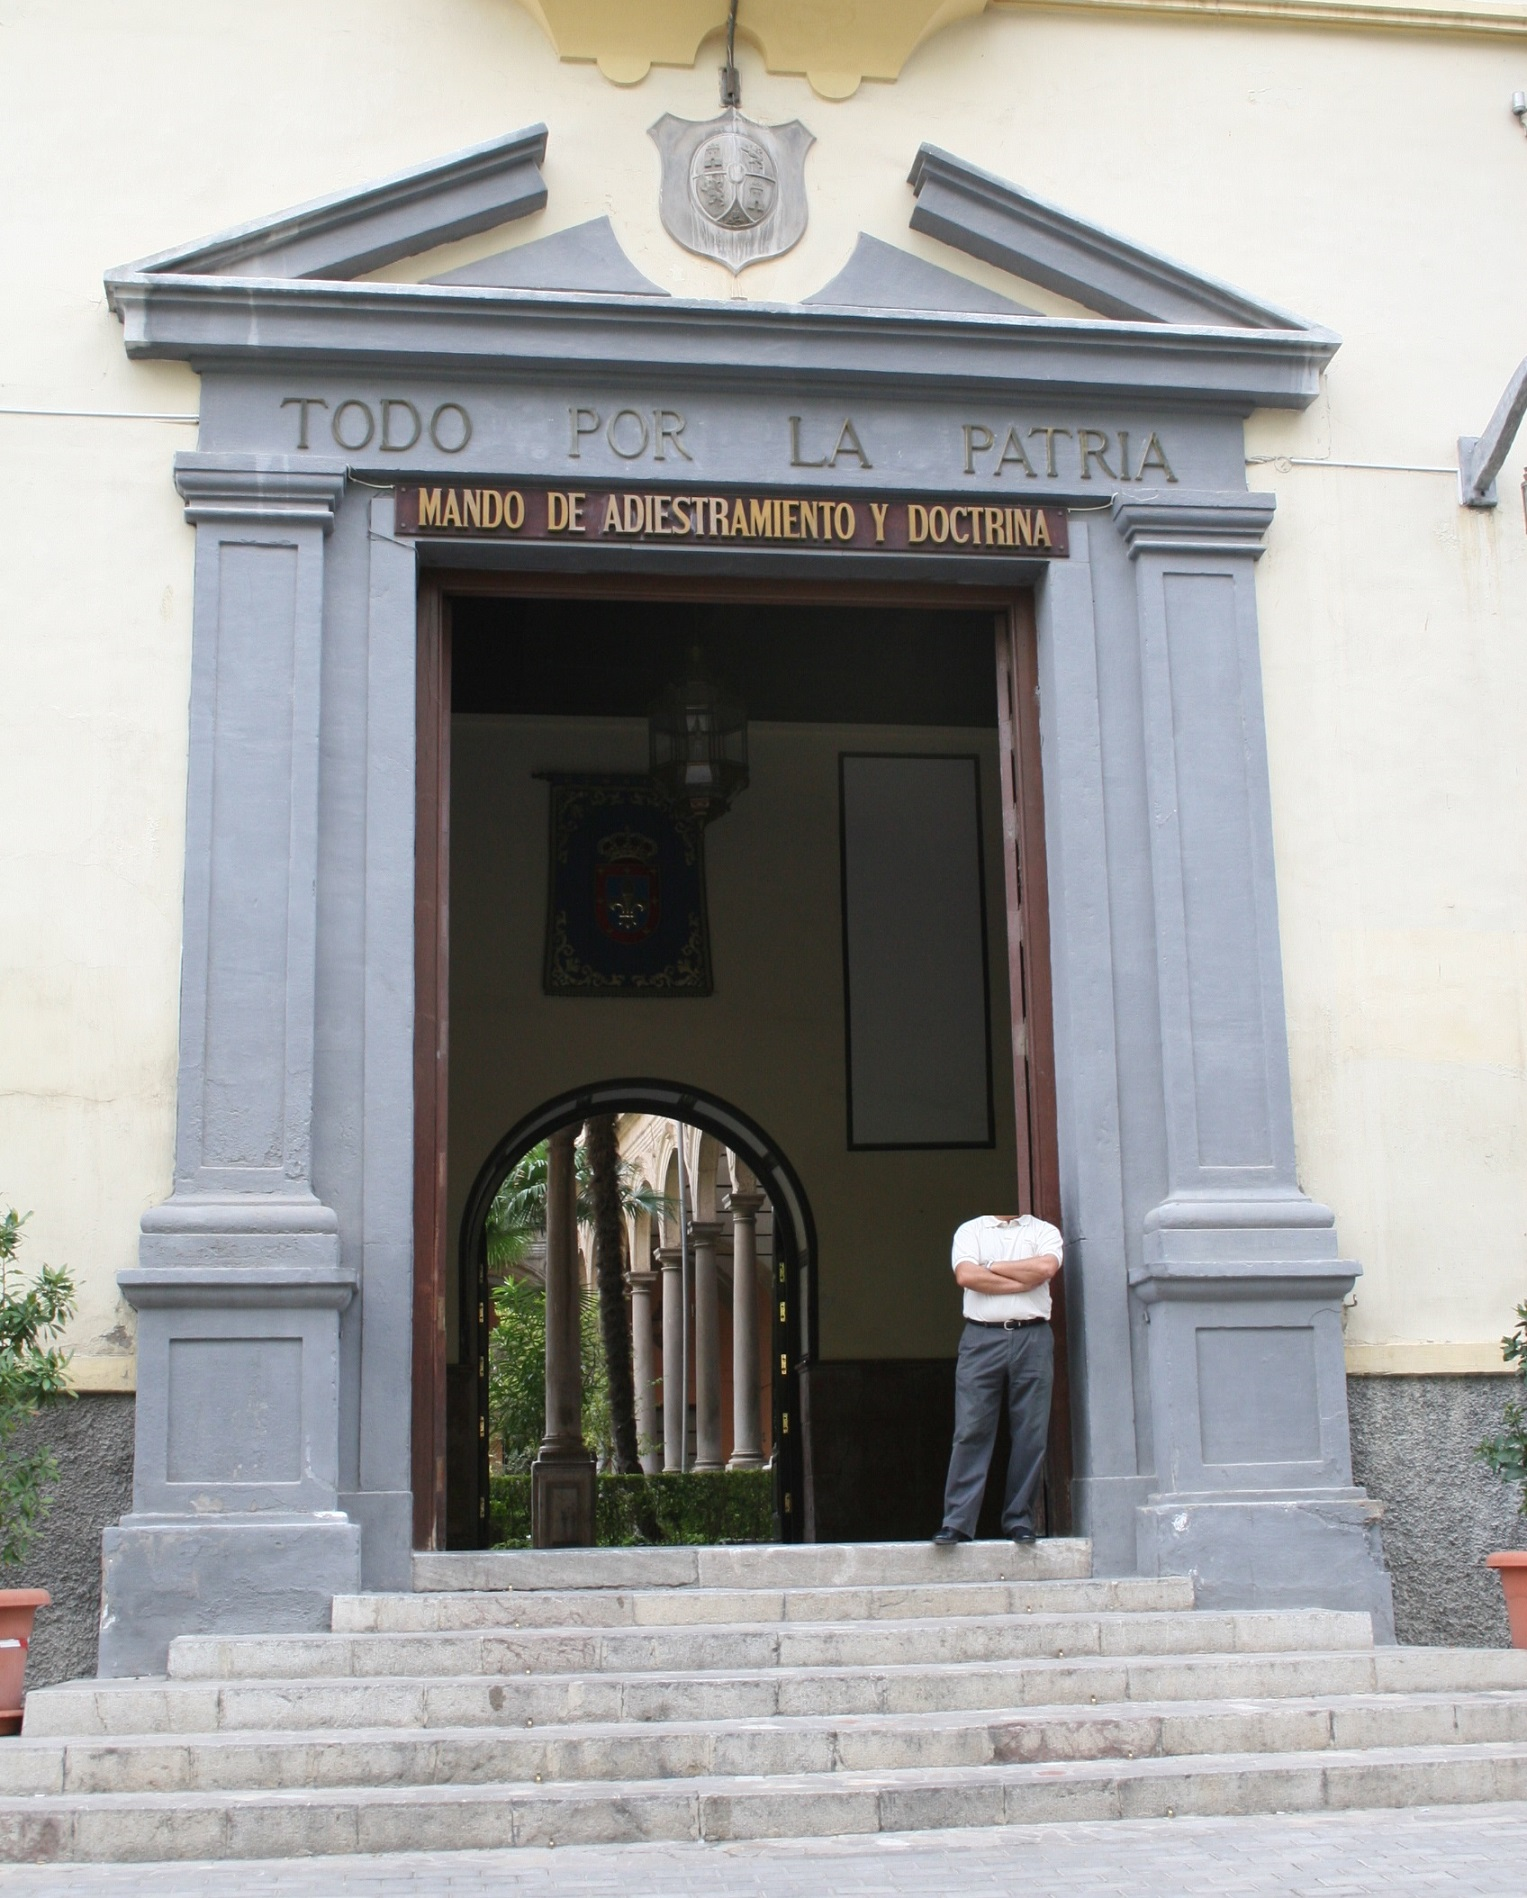fronton-partido: (90, 117, 1352, 407)
vano-adintelado: (369, 449, 1109, 1538)
